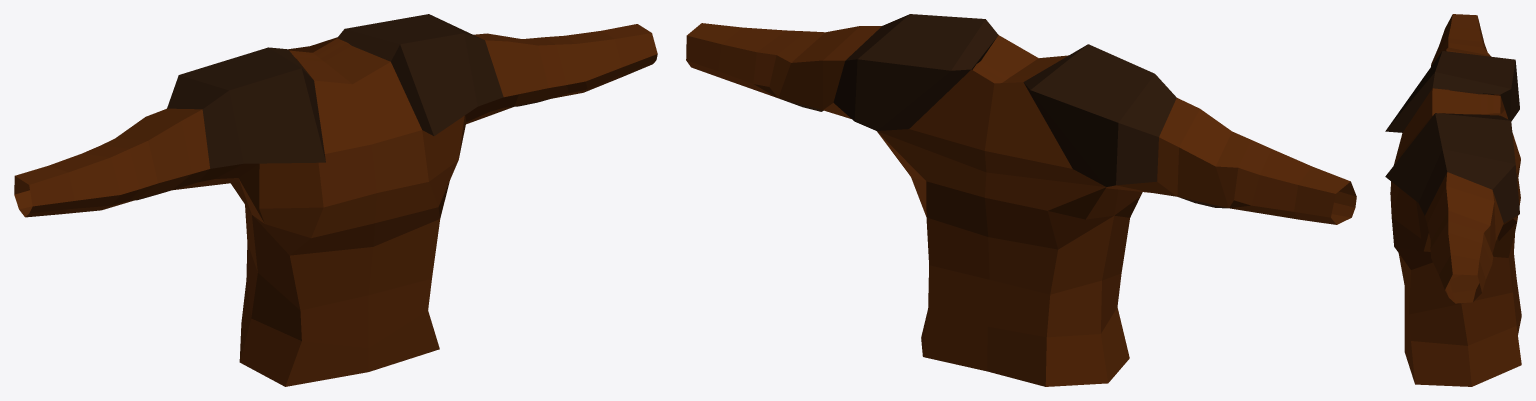
Rendered from BronzePlatebody.unskinned-backup.glb.
The picture shows the model from 3 angles, left to right: view 1: azimuth 30°, elevation 25°; view 2: azimuth 150°, elevation 25°; view 3: azimuth 270°, elevation 25°; orthographic projection. The views are drawn at different scales.
Visible parts, largest first — view 1: Platebody; view 2: Platebody; view 3: Platebody.
Part boxes in pixels (x1,y1,x2,y2): Platebody: [14, 14, 657, 386]; Platebody: [686, 14, 1356, 386]; Platebody: [1385, 14, 1521, 386].
Size of the model in its own units: 1.2 by 0.5519 by 0.2632.
